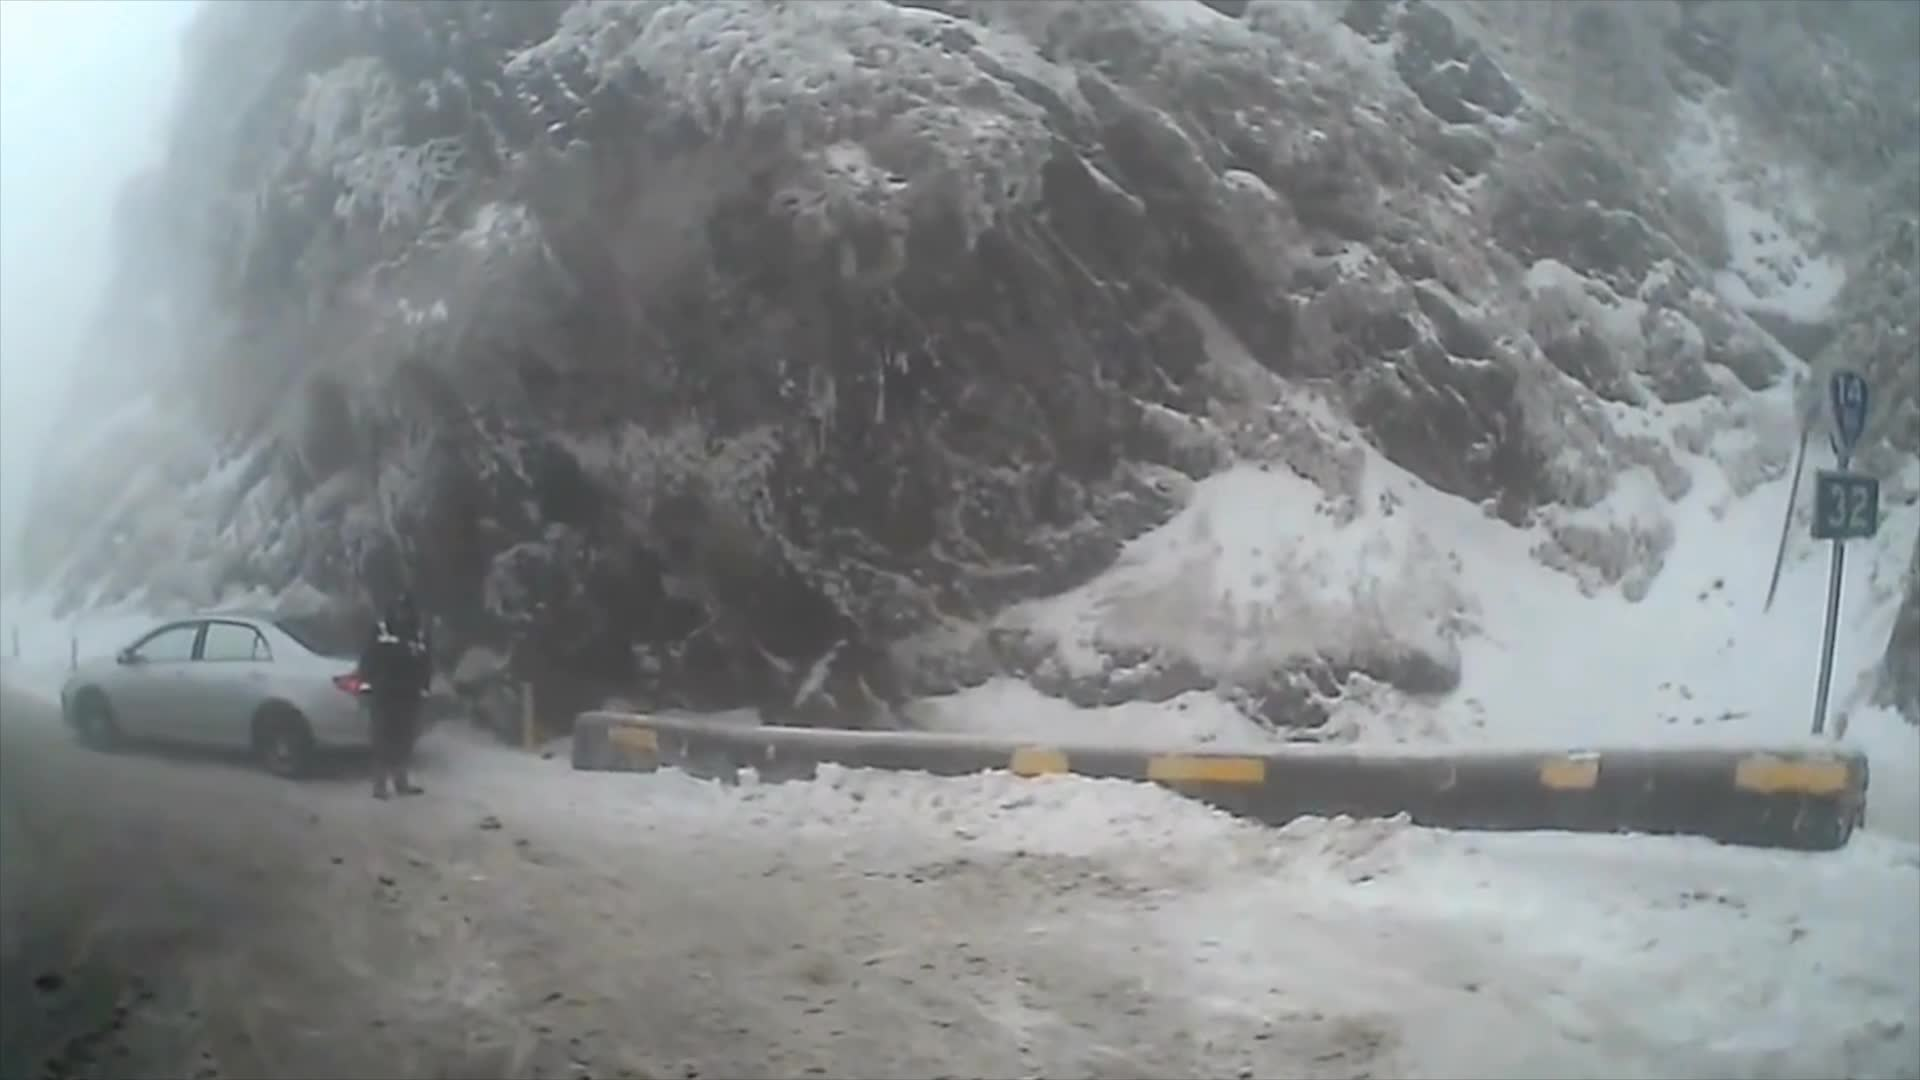pedestrian: (361, 593, 439, 798)
vehicle: (63, 607, 437, 782)
